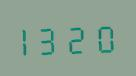one: (18, 21, 42, 56)
three: (43, 20, 67, 56)
two: (68, 19, 92, 55)
zero: (93, 19, 117, 54)
